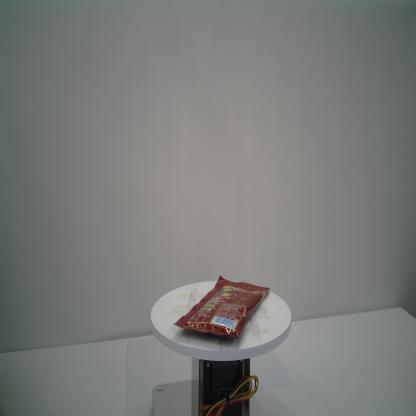Candy: (172, 275, 271, 339)
